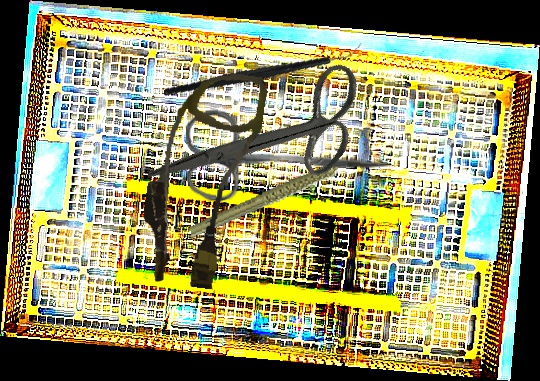Cannula: (134, 63, 269, 294)
Chopper: (163, 11, 363, 127)
Handpiece: (182, 155, 371, 240)
Iris Scissors: (146, 12, 388, 263), (183, 108, 394, 209)
